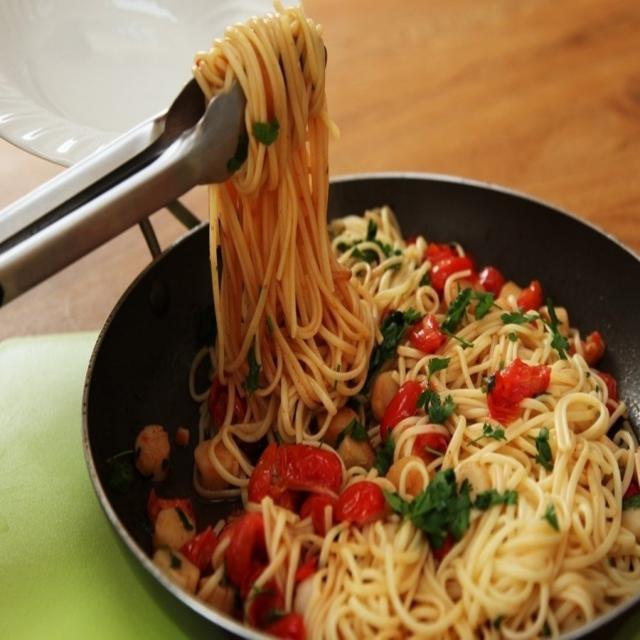Oil pasta: (170, 30, 608, 606)
